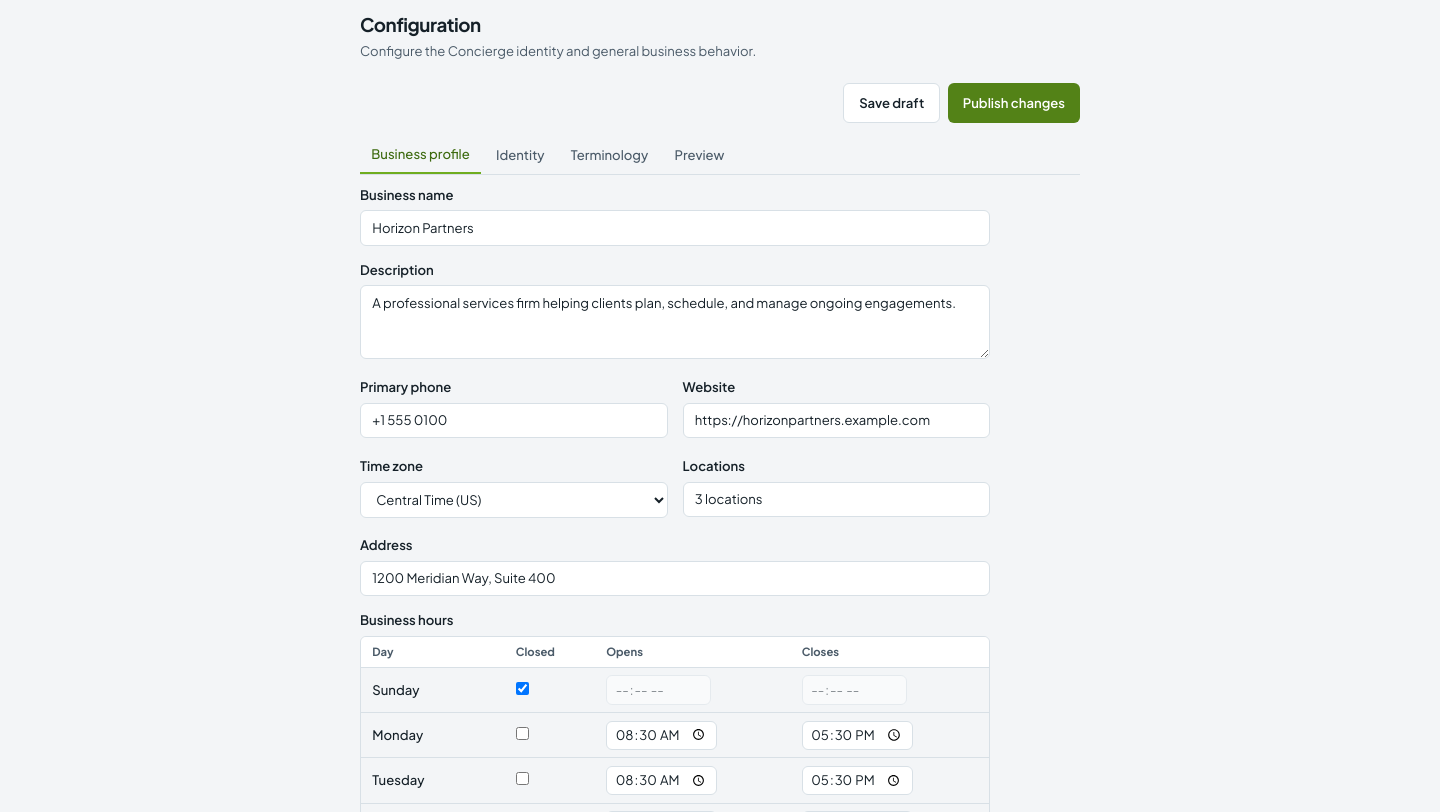
Test: ConfigurationPage › flags the Identity tab with an error found while viewing Business profile
expect the field showing "Horizon Partners" is shown: met, box [360,210,990,246]
Click the tab "Identity".
click(520, 156)  # box [485,138,556,174]
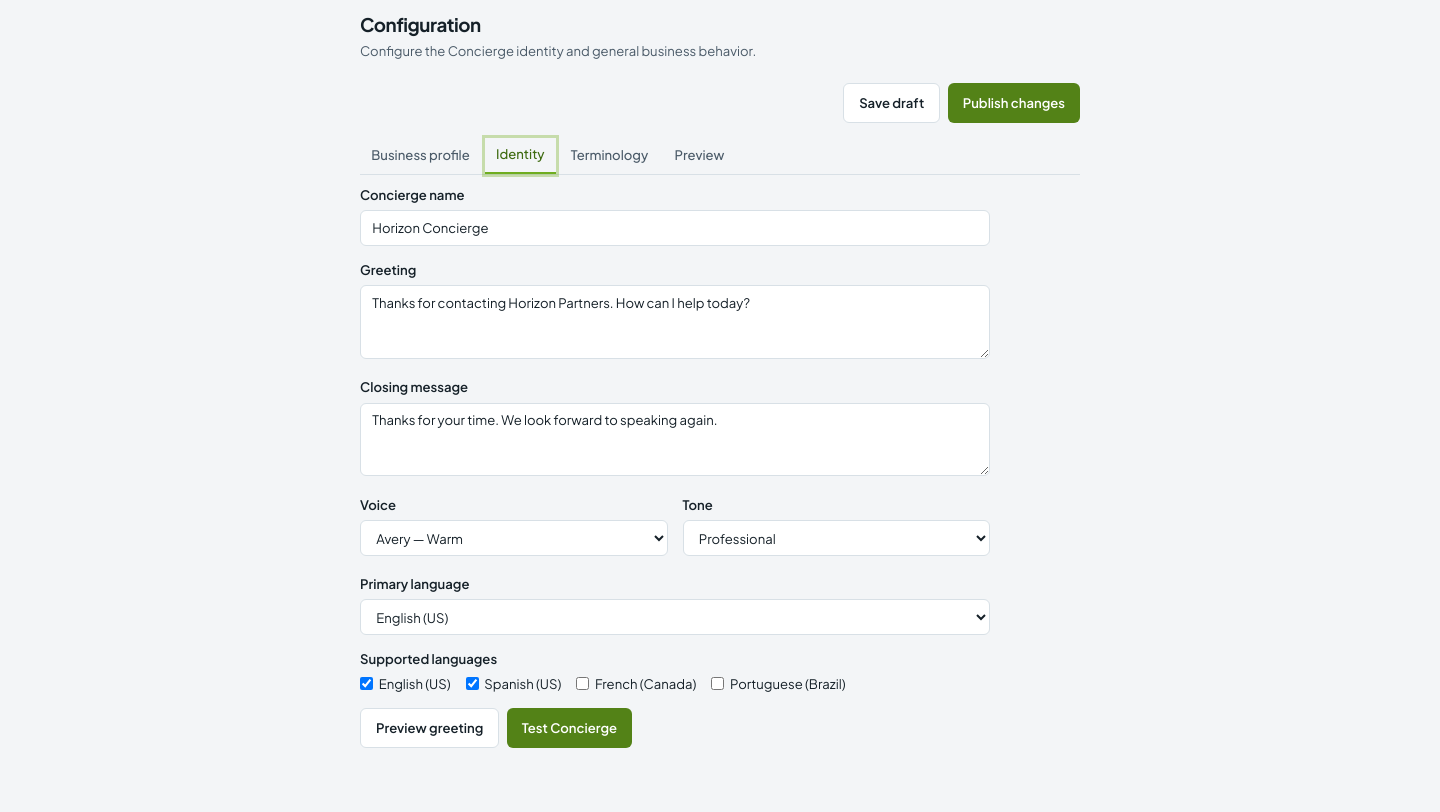
Clear the field labelled "Concierge name" at (675, 228), box [360,210,990,246]
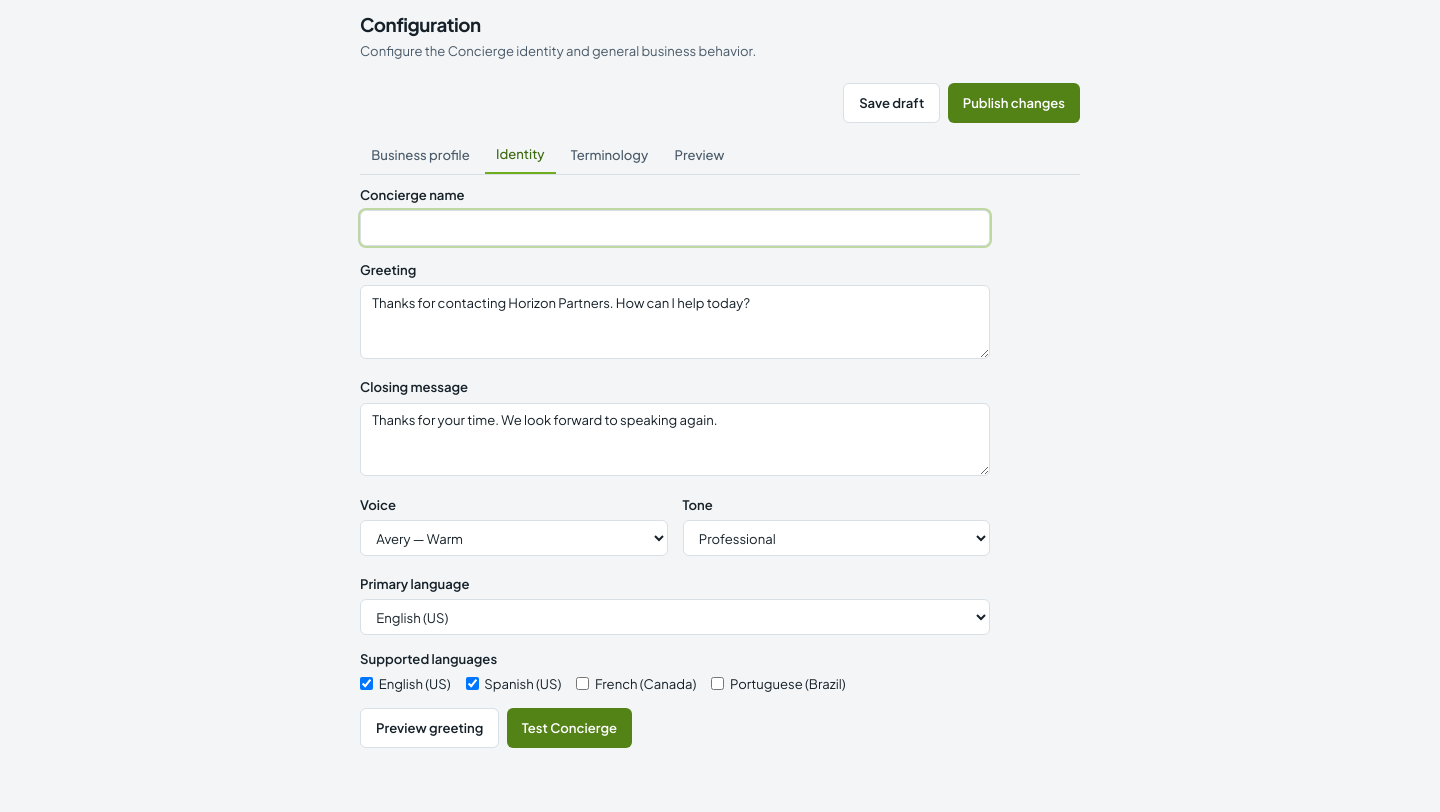
Click the tab "Business profile".
click(420, 156)  # box [360,138,481,174]
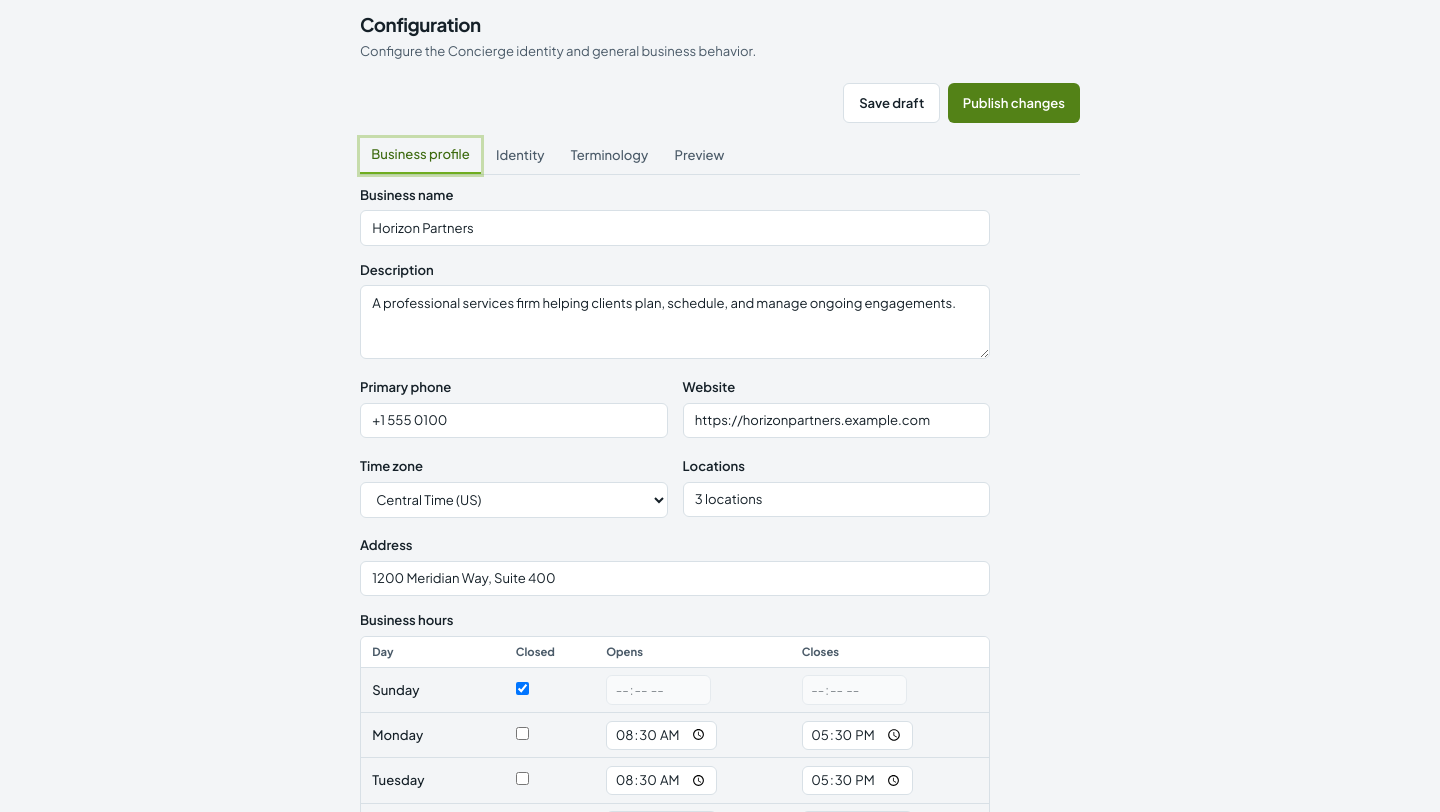
Click the button "Save draft".
click(892, 103)  # box [843,83,940,123]
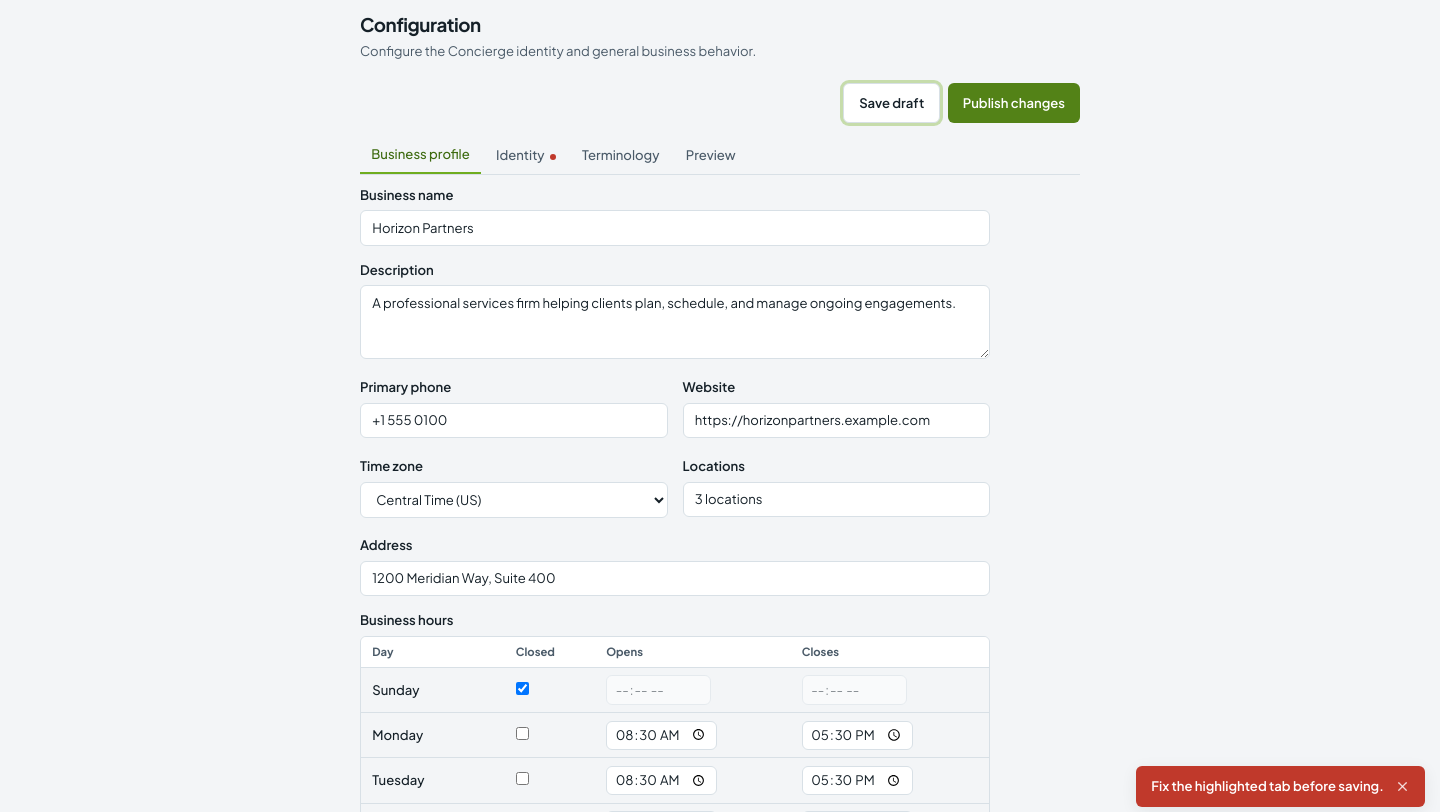
expect the tab "Business profile" does not show "has an error": met, box [360,138,481,174]
expect the text "Fix the highlighted tab before saving." is shown: met, box [1151,777,1384,796]
